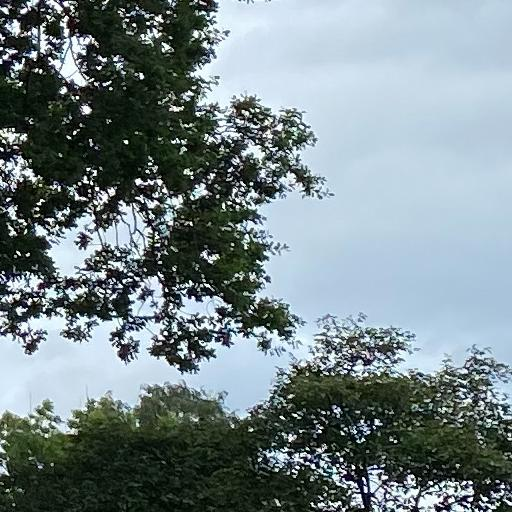tree: (1, 1, 334, 374), (237, 311, 511, 512), (1, 381, 346, 512)
